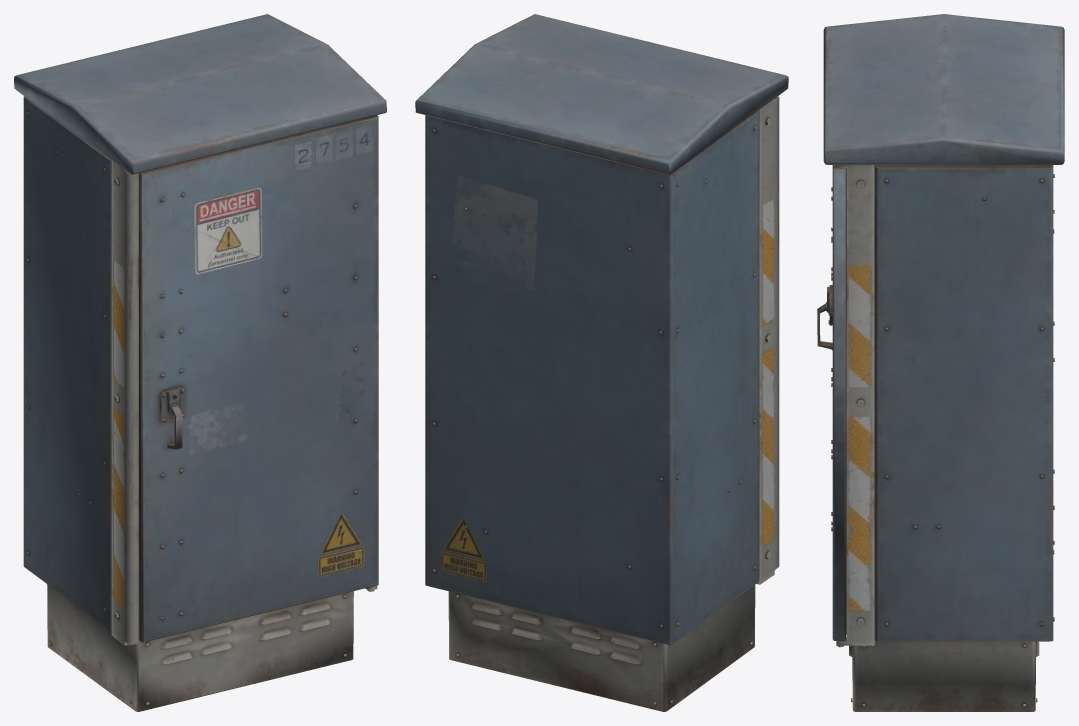
File: utility_box_01.glb
3 renders of one model, left to right at view 1: azimuth 30°, elevation 25°; view 2: azimuth 150°, elevation 25°; view 3: azimuth 270°, elevation 25°, orthographic.
Parts seen in each view (by area): view 1: utility_box_01_box; view 2: utility_box_01_box; view 3: utility_box_01_box.
Boxes of the visible parts, box(x1,y1,x2,y2) form: utility_box_01_box: box(14, 14, 386, 711); utility_box_01_box: box(415, 14, 788, 711); utility_box_01_box: box(817, 14, 1064, 711).
Size of the model in its own units: 0.52 by 1.12 by 0.4312.
1 material, 1 textured.
